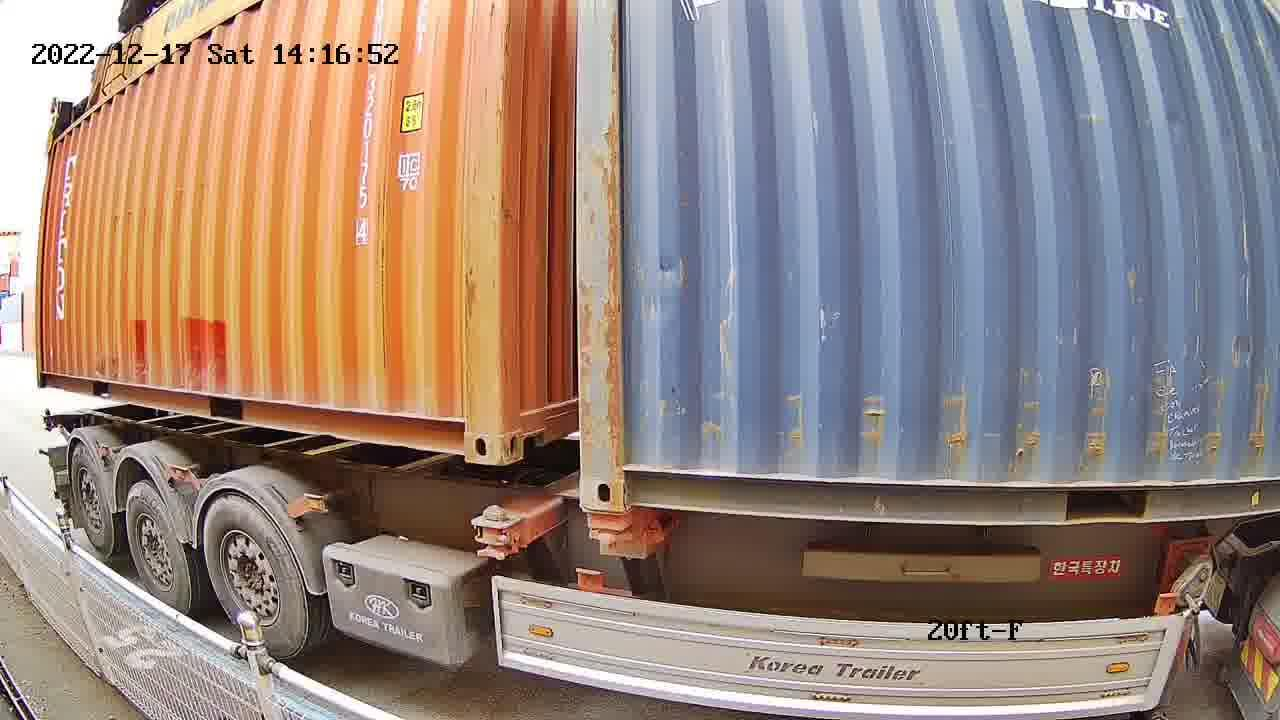Cone: (470, 499, 516, 560), (582, 514, 630, 553), (38, 407, 57, 436)
Hole_L: (579, 435, 673, 509), (501, 393, 554, 465)
Hole_R: (427, 392, 502, 463)
Tire: (203, 499, 305, 654), (123, 487, 190, 613), (70, 447, 114, 551)
